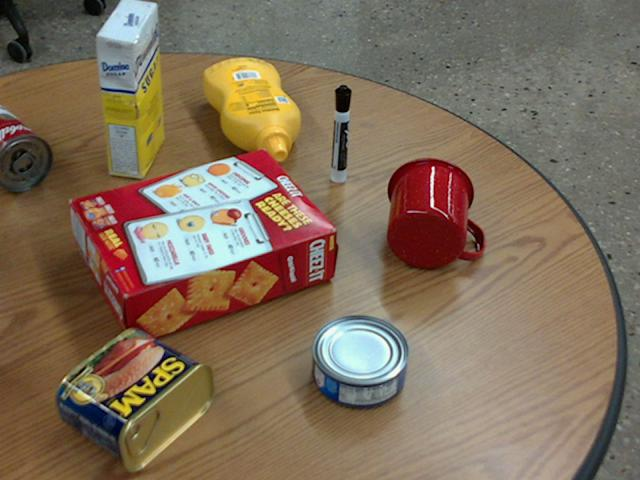cracker_box: (72, 150, 336, 344)
large_marker: (331, 85, 351, 181)
mug: (387, 157, 485, 268)
mustard_bottle: (203, 58, 300, 160)
potted_meat_can: (54, 327, 212, 471)
sugar_box: (97, 0, 164, 178)
tomato_soup_can: (0, 103, 52, 190)
tuna_fish_can: (311, 315, 408, 407)
